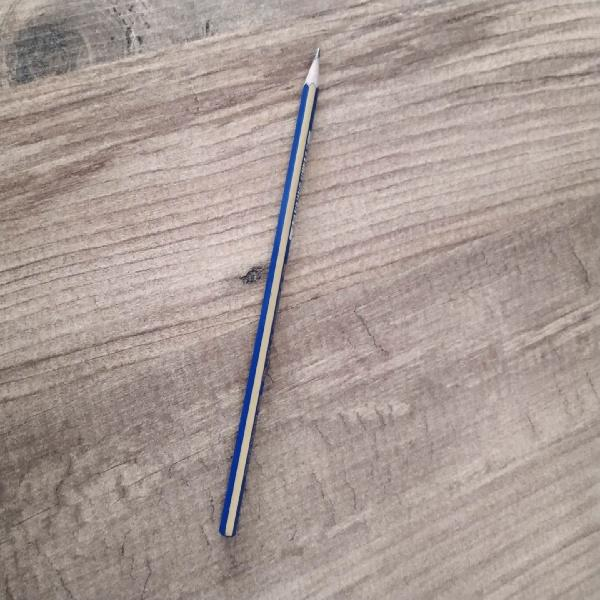pencil: (219, 49, 319, 536)
